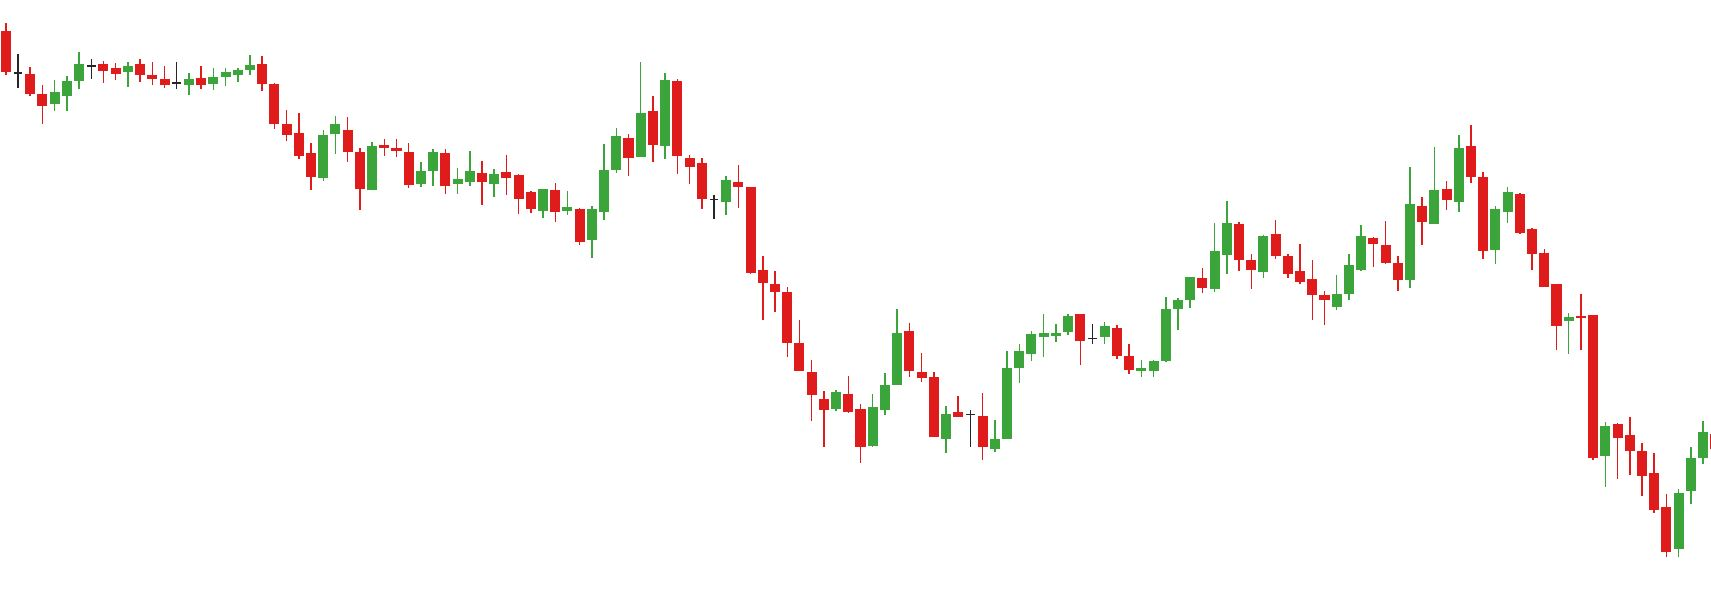sell: (1220, 163, 1429, 259)
